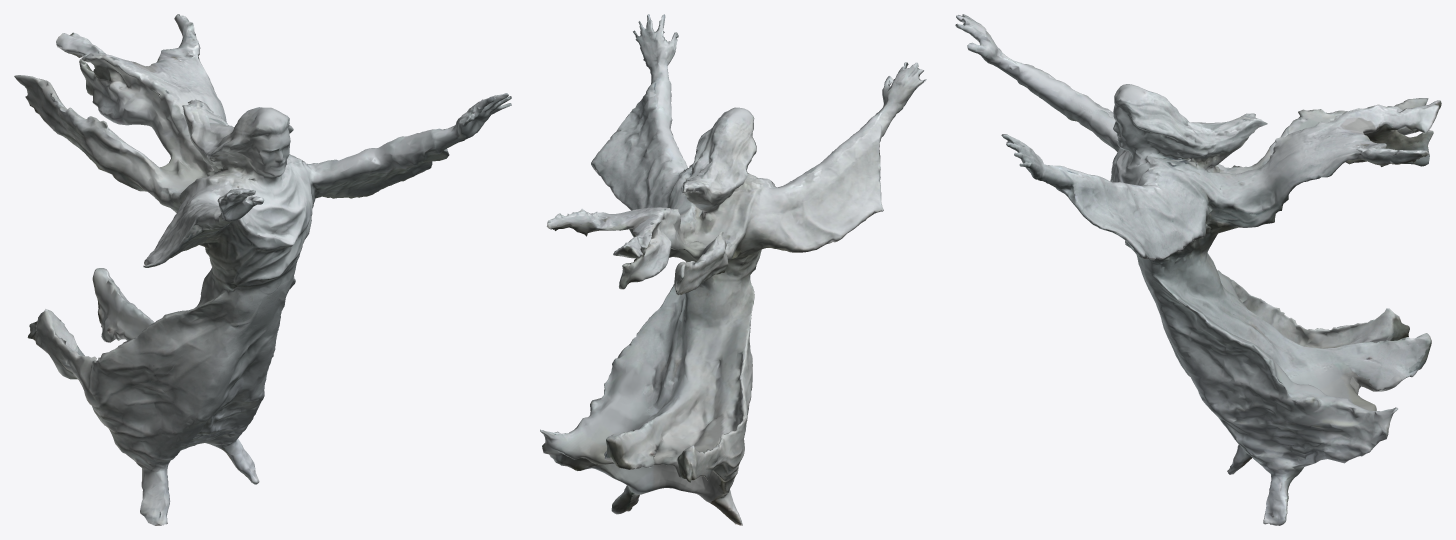
The model's file is yesus_memberkati.glb.
3 views of the same model, side by side, from view 1: azimuth 30°, elevation 25°; view 2: azimuth 150°, elevation 25°; view 3: azimuth 270°, elevation 25° (orthographic). The views are drawn at different scales.
Parts seen in each view (by area): view 1: Object_2; view 2: Object_2; view 3: Object_2.
Part boxes in pixels (x1,y1,x2,y2): Object_2: (14,14,511,525); Object_2: (540,14,926,525); Object_2: (955,14,1441,525).
Bounding box in the file's own units: 17.27 × 23.15 × 23.43.
1 material, 1 textured.
